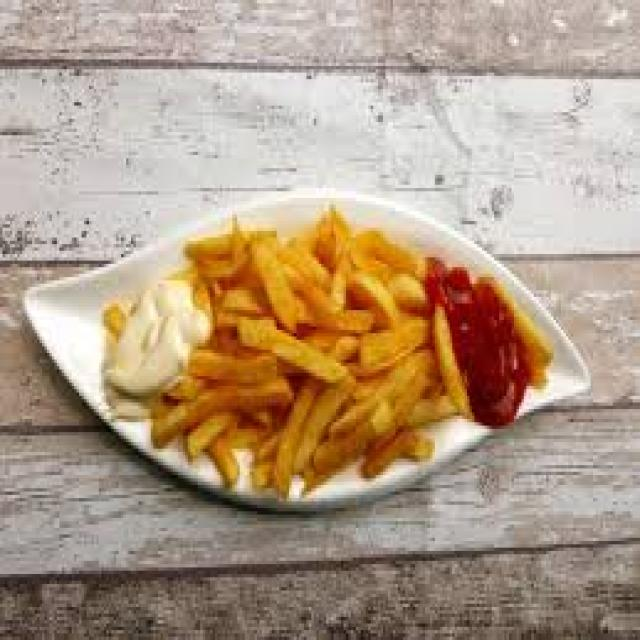fries: (192, 217, 429, 468)
